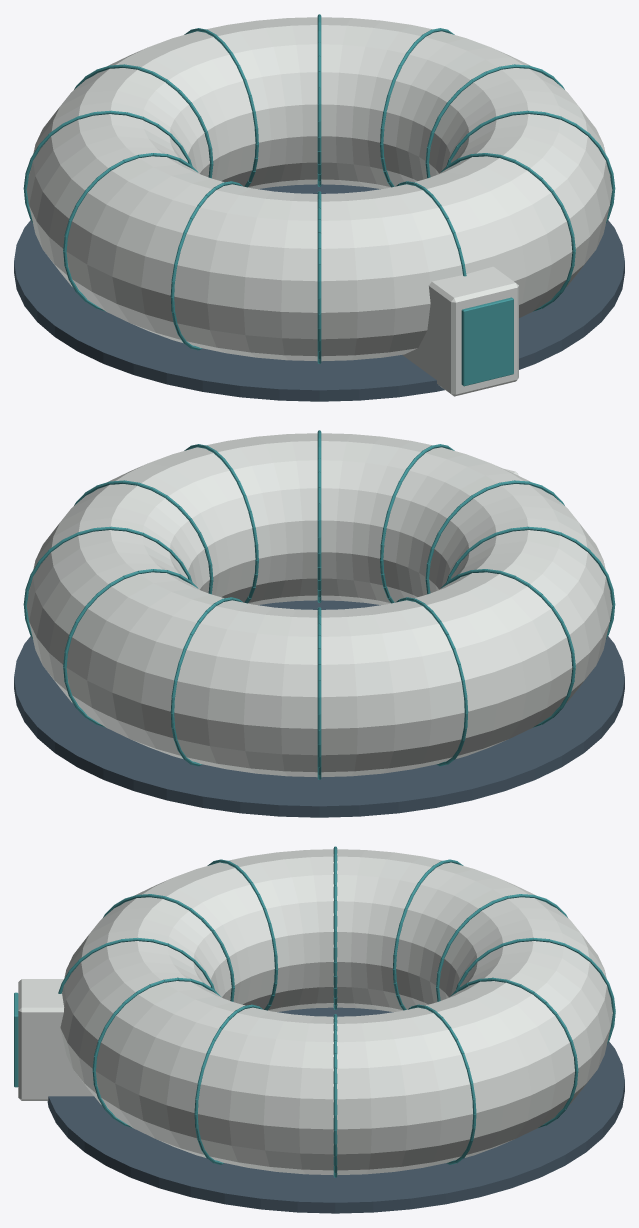
The picture shows the model from 3 angles, top to bottom: view 1: azimuth 30°, elevation 25°; view 2: azimuth 150°, elevation 25°; view 3: azimuth 270°, elevation 25°; orthographic projection. The views are drawn at different scales.
Visible parts, largest first — view 1: ME-072 Inflatable toroidal lunar habitat batched; view 2: ME-072 Inflatable toroidal lunar habitat batched; view 3: ME-072 Inflatable toroidal lunar habitat batched.
Boxes of the visible parts, x1,y1,x2,y2 form: ME-072 Inflatable toroidal lunar habitat batched: (14,14,624,401); ME-072 Inflatable toroidal lunar habitat batched: (14,430,624,817); ME-072 Inflatable toroidal lunar habitat batched: (14,846,624,1213).
Size of the model in its own units: 5.84 by 1.71 by 6.16.
